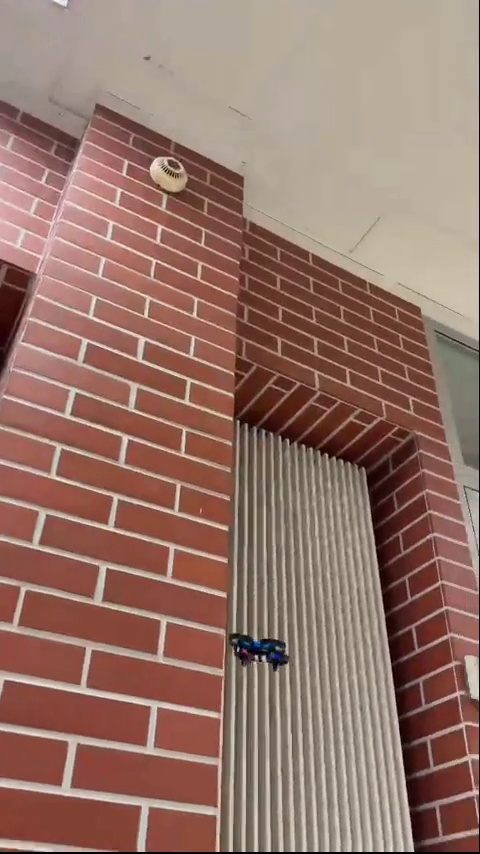drone: (230, 631, 287, 670)
